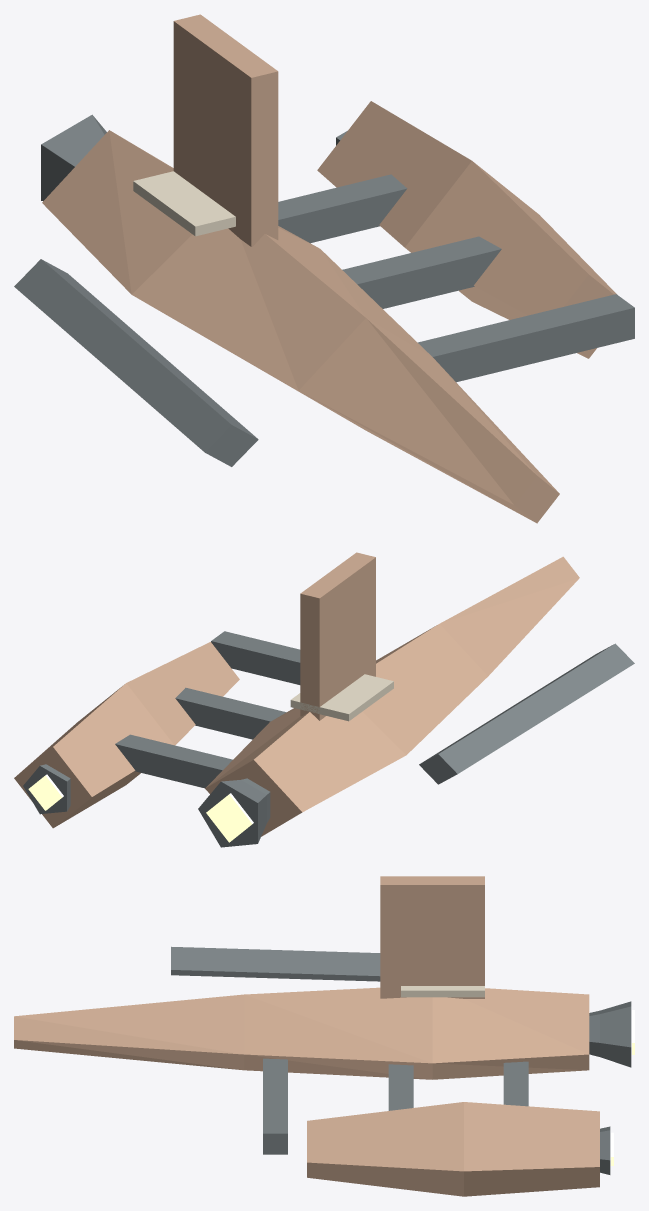
3 renders of one model, top to bottom at view 1: azimuth 30°, elevation 25°; view 2: azimuth 150°, elevation 25°; view 3: azimuth 270°, elevation 25°, orthographic. The views are drawn at different scales.
Bounding box in the file's own units: 8.2 × 4.8 × 11.87.
